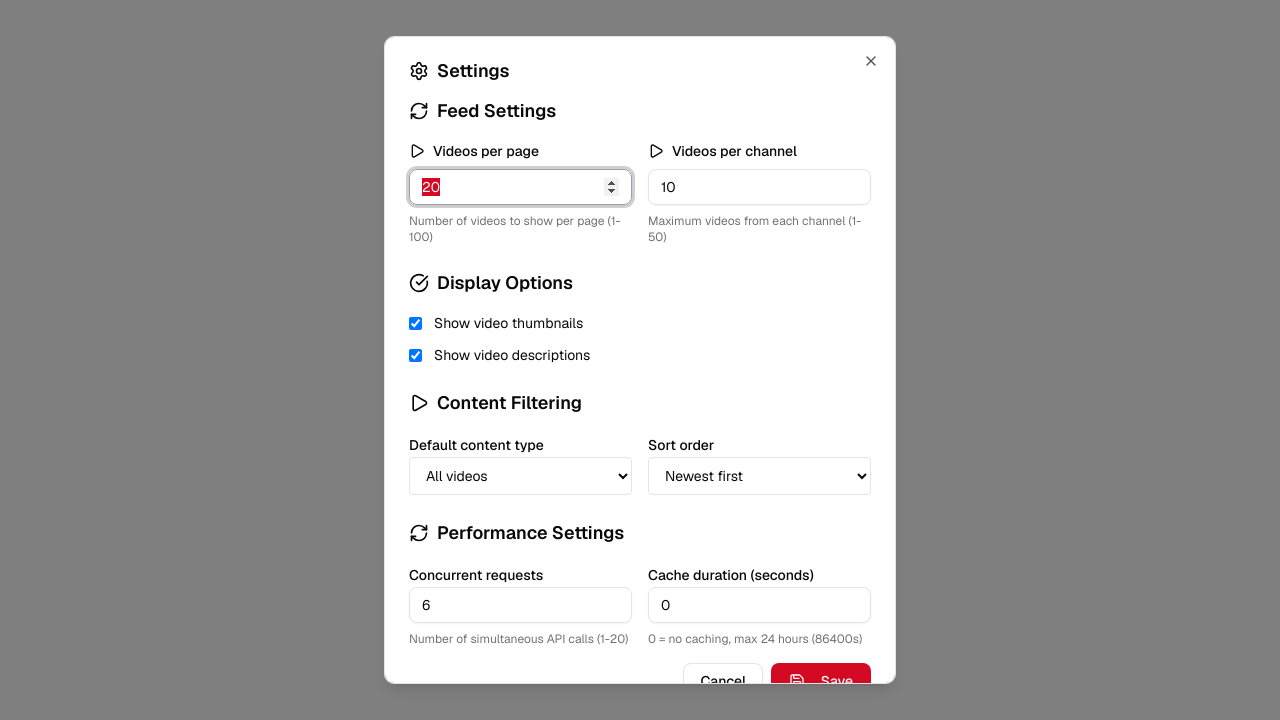
Test: SettingsDialog › validates concurrency input
Test invalid value (too high)
Replace the text in the number field labelled "Concurrent requests" with "25" at (520, 605), box [409, 587, 632, 623]
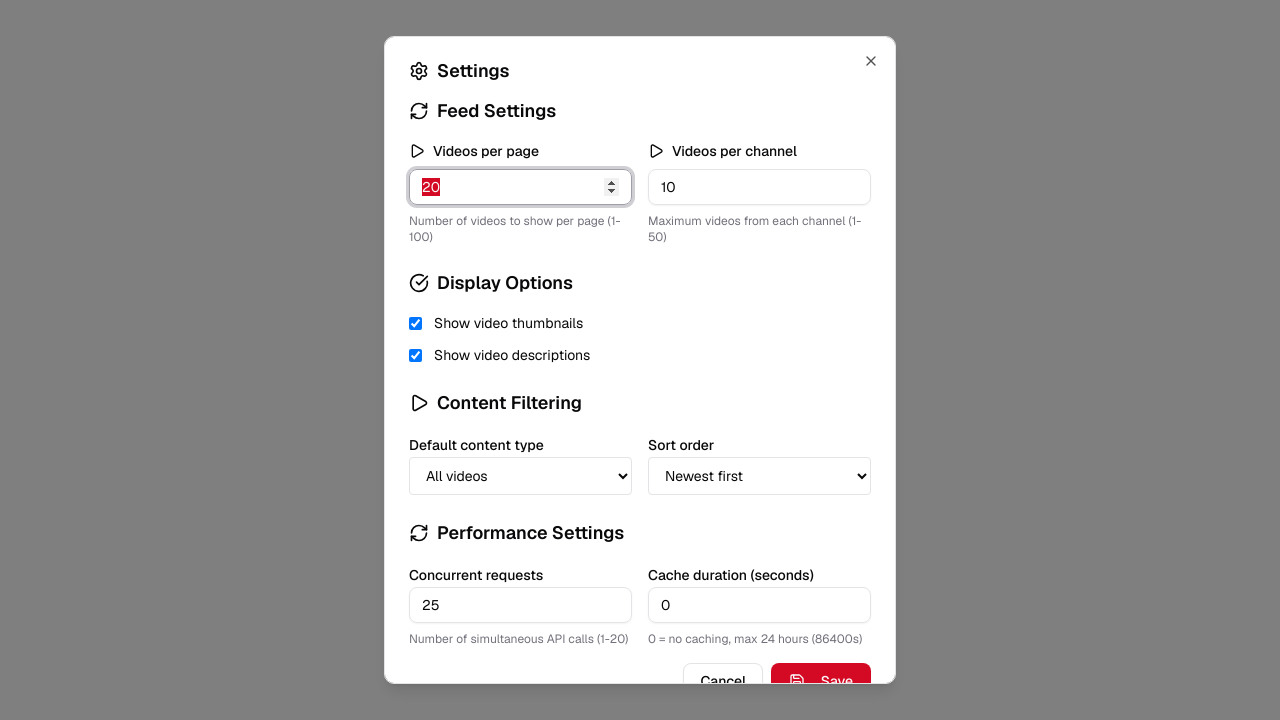
Click the button "Save" at (821, 681), box [771, 663, 871, 699]
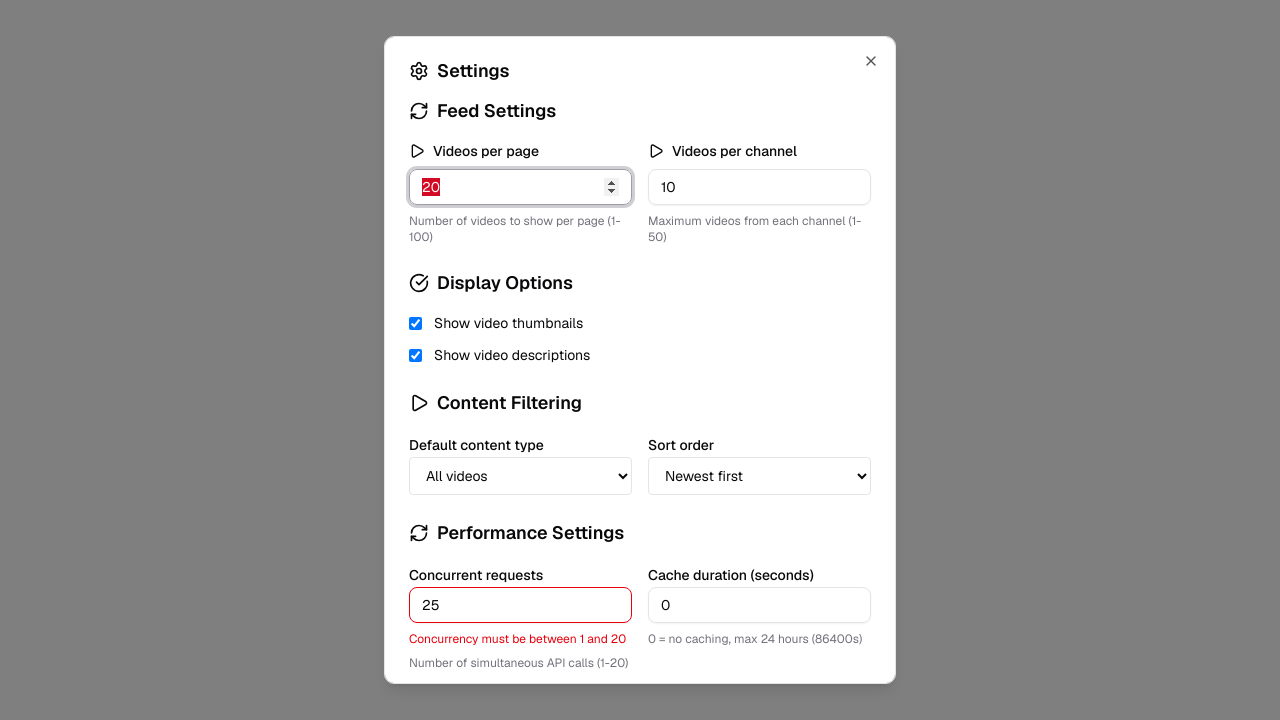
Expected: the text "Concurrency must be between 1 and 20" is shown, [409, 631, 632, 647]
